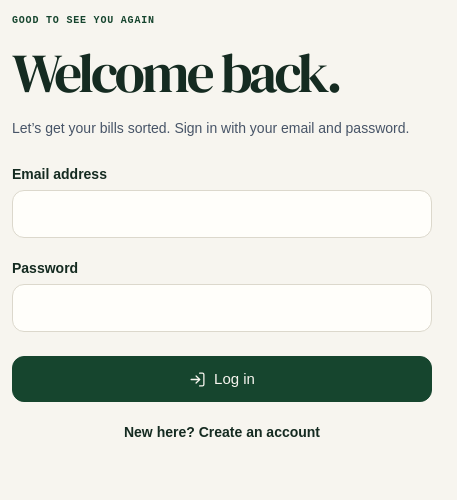
LoginForm › shows the API's generic authentication error
Step 1. Type "adaeze@example.com" into the field labelled "Email address" → [222, 214], box x1=12 y1=190 x2=432 y2=238
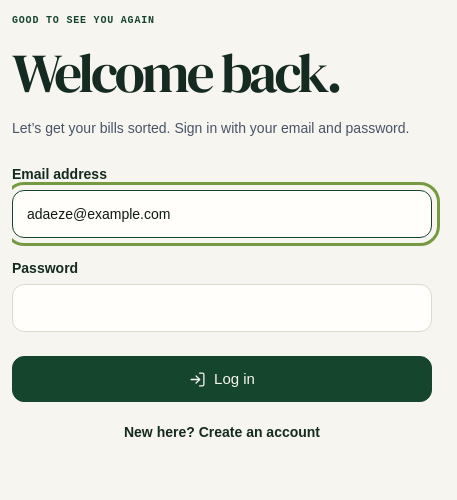
Step 2. Type "WrongPass123" into the password field labelled "Password" → [222, 308], box x1=12 y1=284 x2=432 y2=332
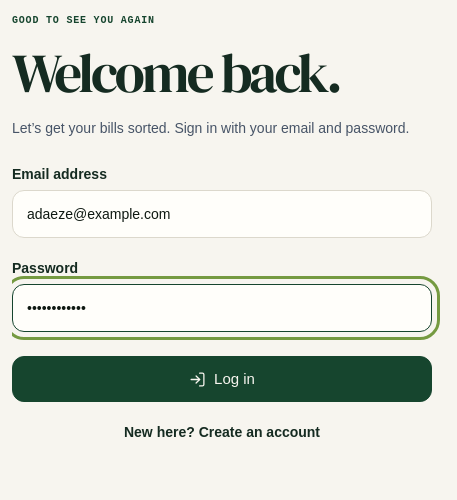
Step 3. Click the button "Log in" → [222, 379], box x1=12 y1=356 x2=432 y2=402
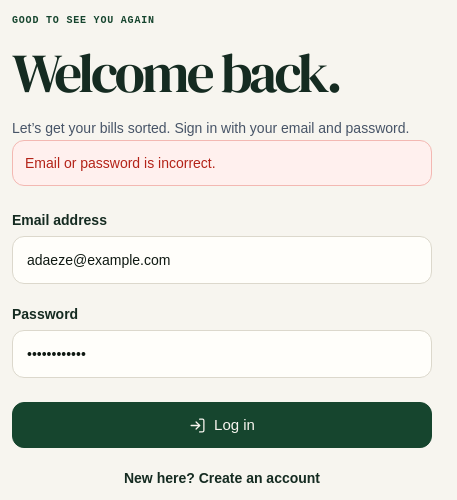
Expected: the message reads "Email or password is incorrect.", x1=25 y1=155 x2=216 y2=171
